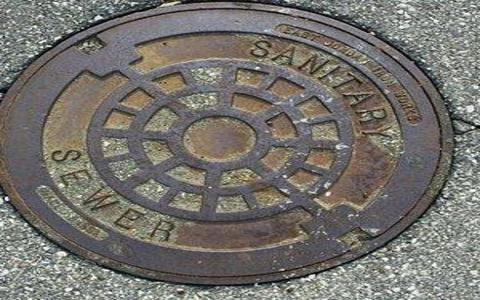proper manhole: (1, 1, 460, 285)
